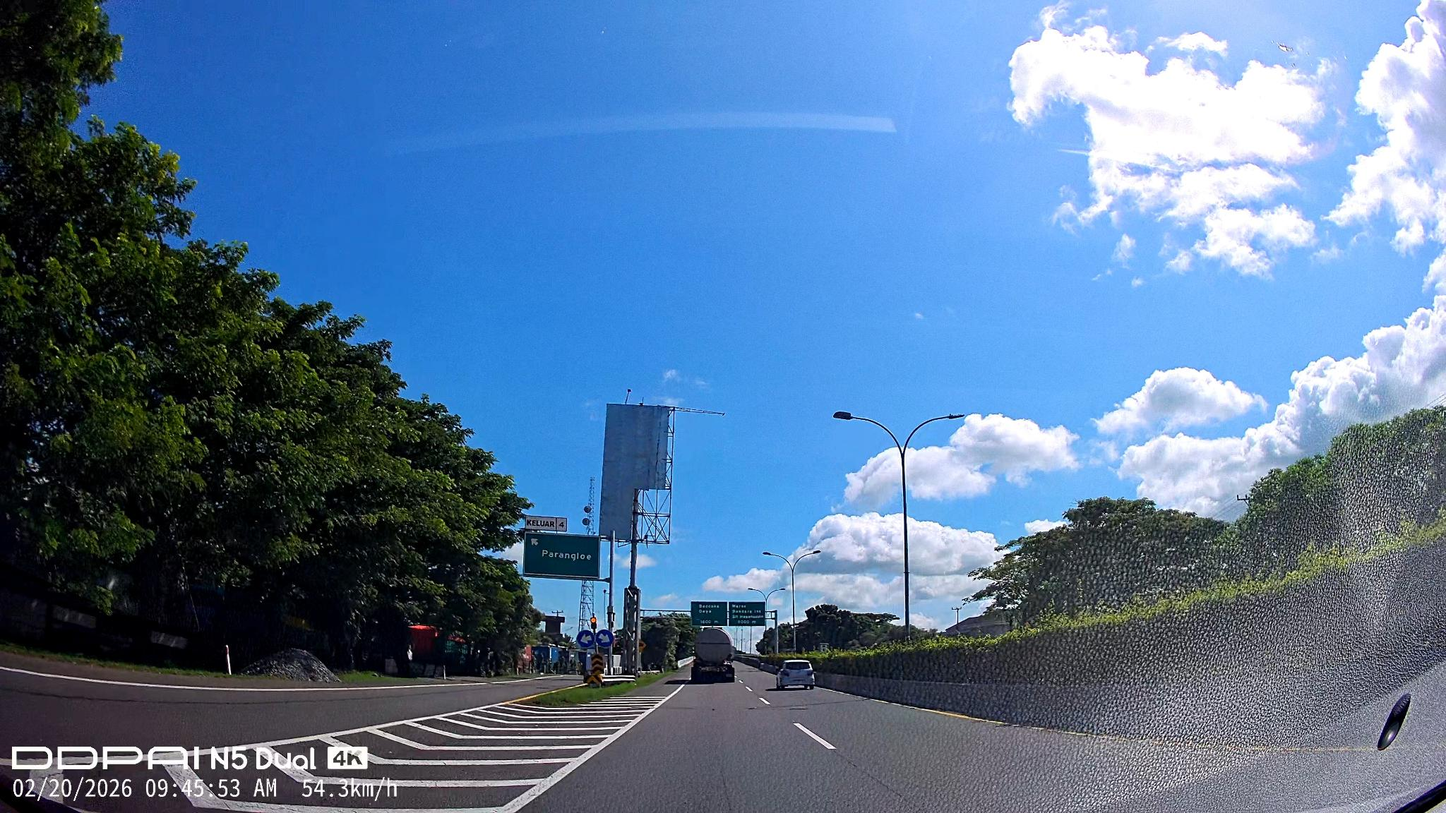rambu_teks: (522, 531, 601, 579)
